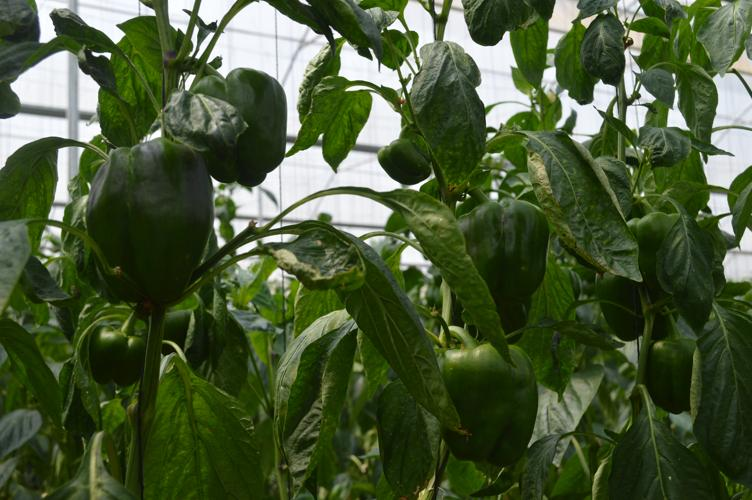BellPepper: (86, 139, 214, 308), (441, 341, 535, 466), (195, 68, 286, 188), (457, 201, 544, 300), (625, 212, 688, 288), (591, 267, 650, 338), (647, 337, 701, 413), (82, 329, 145, 387), (376, 142, 432, 188)
